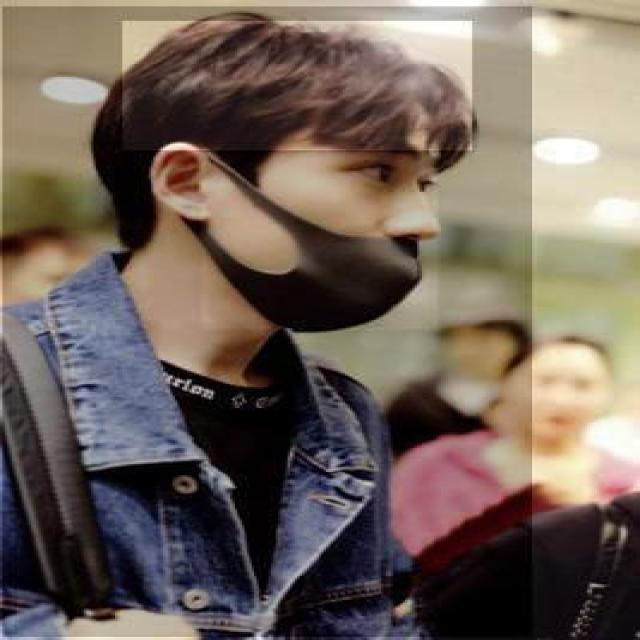face_mask: (201, 153, 439, 330)
head_nohelmet: (122, 21, 475, 152)
person: (2, 6, 534, 638)
